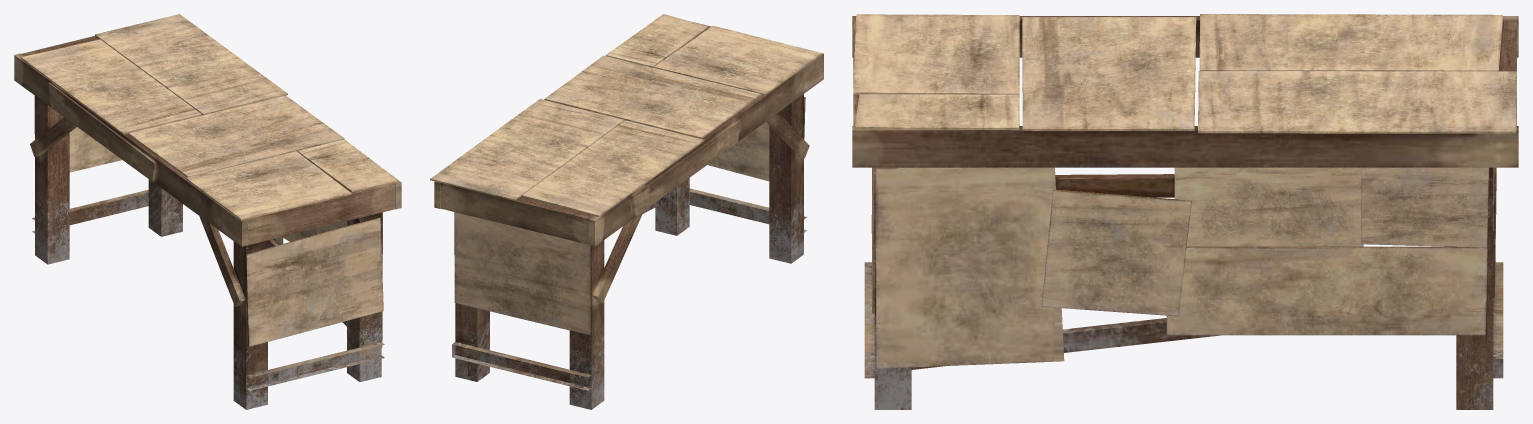
File: wooden_table.glb
3 renders of one model, left to right at view 1: azimuth 30°, elevation 25°; view 2: azimuth 150°, elevation 25°; view 3: azimuth 270°, elevation 25°, orthographic. The views are drawn at different scales.
Parts seen in each view (by area): view 1: Wooden_table_1_Material #35_0.001; view 2: Wooden_table_1_Material #35_0.001; view 3: Wooden_table_1_Material #35_0.001.
Boxes of the visible parts, left/top/right/bottom form: Wooden_table_1_Material #35_0.001: left=14, top=14, right=401, bottom=409; Wooden_table_1_Material #35_0.001: left=430, top=14, right=823, bottom=409; Wooden_table_1_Material #35_0.001: left=852, top=14, right=1518, bottom=409.
Size of the model in its own units: 199 by 226 by 470.
1 material, 1 textured.
